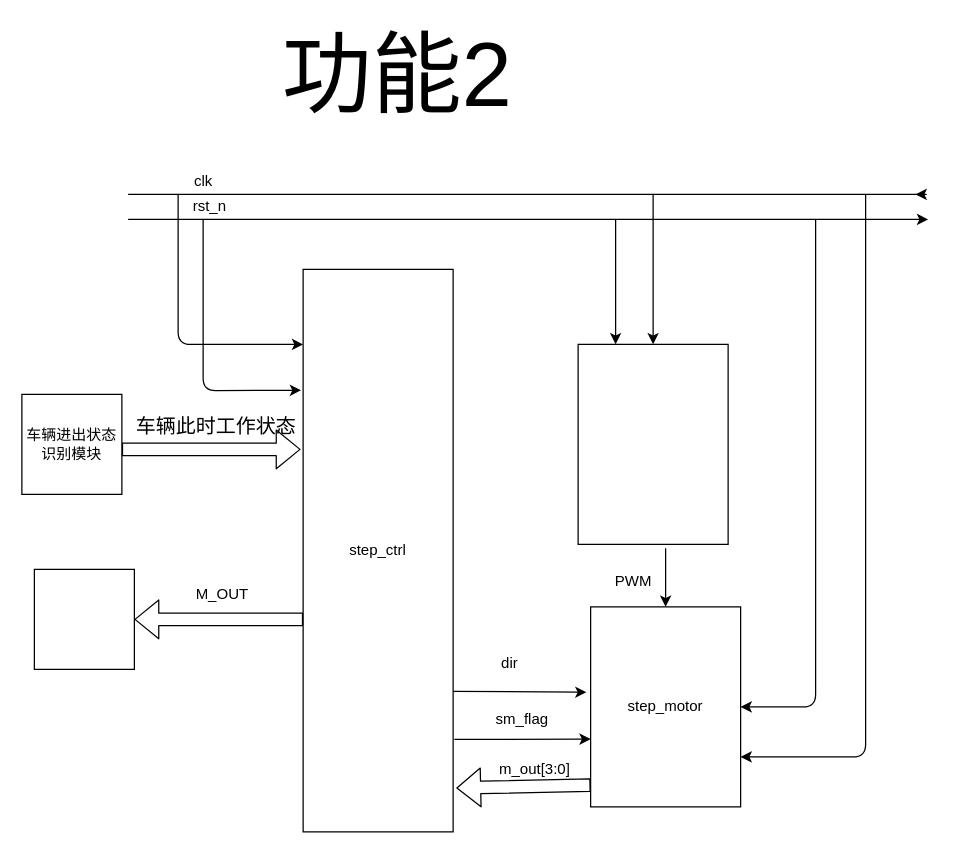
The diagram is 960 pixels wide and 854 high, and some of its shapes have lost their labels. Each missing label, with the centre of its shape:
"pwm_generator" belongs at point 652,443.
"步进电机" belongs at point 83,618.
